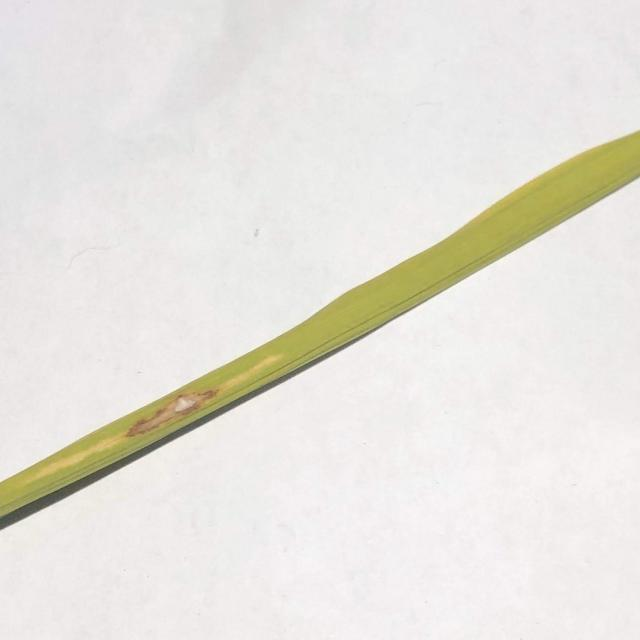Blast: (172, 396, 198, 416)
